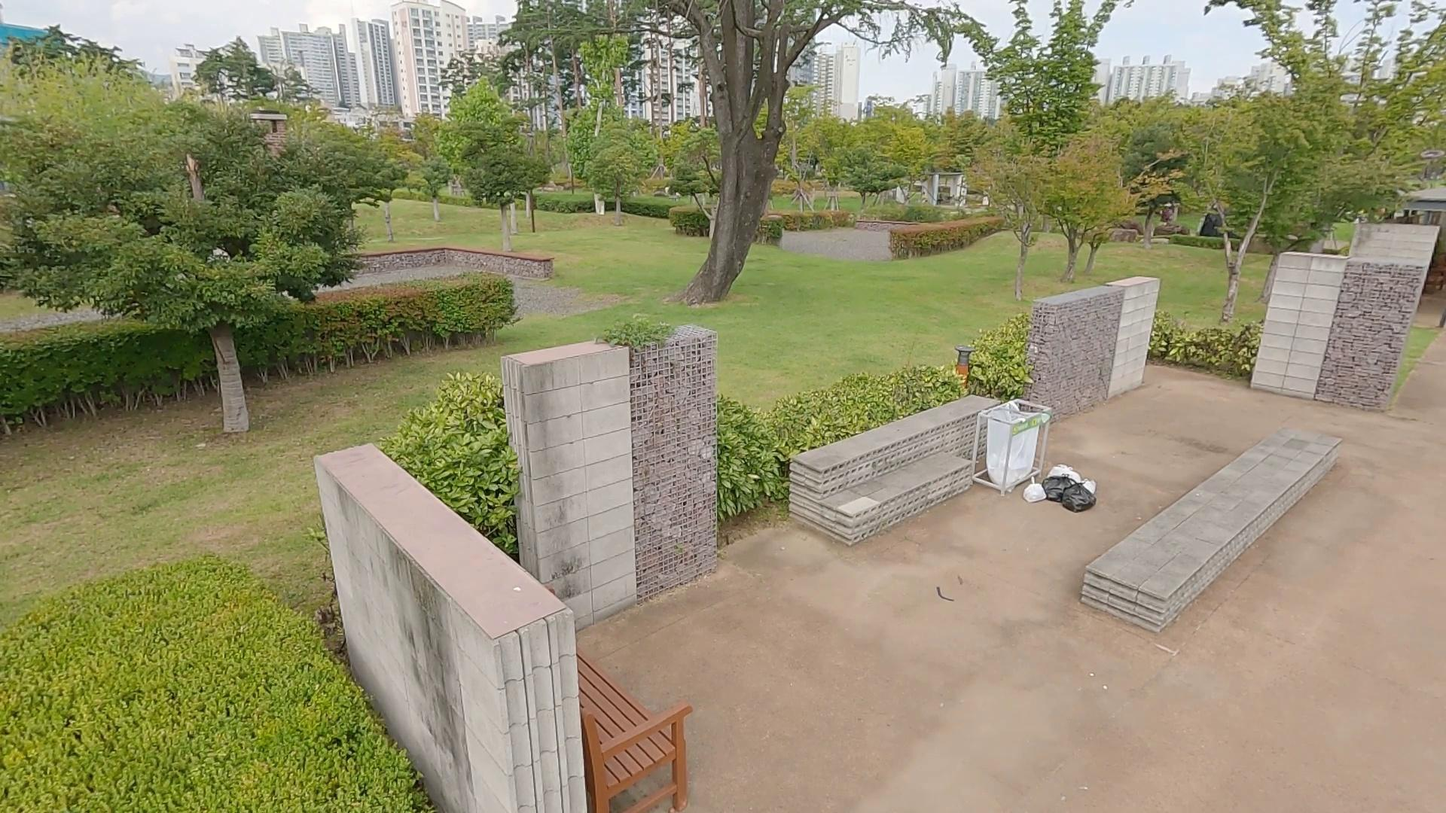trash: (1056, 477, 1098, 513), (1039, 471, 1079, 501), (1045, 457, 1079, 487), (1021, 474, 1049, 503), (1072, 473, 1097, 501)
